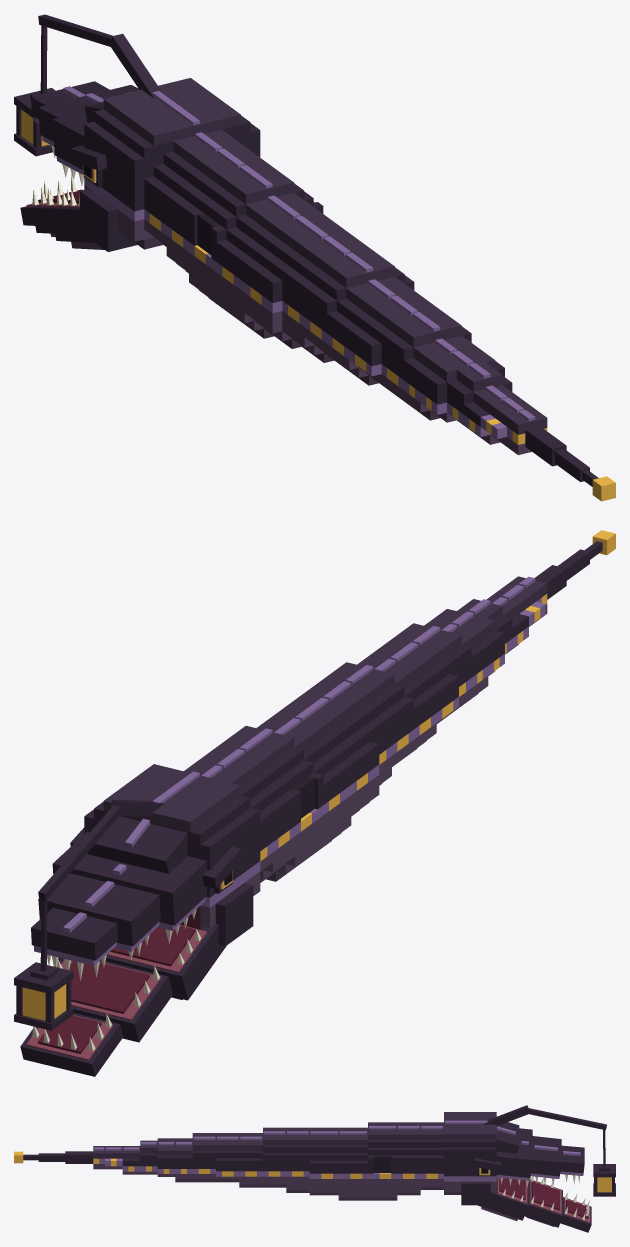
The model's file is LanternLeviathan.obj.
3 views of the same model, one above another, from view 1: azimuth 30°, elevation 25°; view 2: azimuth 150°, elevation 25°; view 3: azimuth 270°, elevation 25° (orthographic). The views are drawn at different scales.
Parts seen in each view (by area): view 1: Head, S3, S5, S4, S7, S2, S6, S1, S10, S8, S9, Jaw (+11 smaller); view 2: Head, Jaw, S3, S5, S4, S2, Lure, S7, S6, S9, S10, S8 (+7 smaller); view 3: Head, Jaw, S3, S4, S5, S2, S1, S6, S7, S8, S9, S10 (+12 smaller).
Boxes of the visible parts, box(x1,y1,x2,y2) form: Head: box(31, 78, 260, 251); S3: box(189, 162, 323, 317); S5: box(244, 213, 349, 348); S4: box(217, 193, 321, 338); S7: box(304, 250, 414, 368); S2: box(166, 146, 265, 273); S6: box(282, 234, 371, 362); S1: box(144, 129, 243, 246); S10: box(381, 309, 471, 407); S8: box(327, 276, 416, 385); S9: box(349, 293, 438, 391); Jaw: box(20, 173, 104, 249); Head: box(31, 764, 260, 980); Jaw: box(20, 924, 226, 1076); S3: box(218, 726, 323, 881); S5: box(274, 695, 379, 816); S4: box(256, 715, 351, 860); S2: box(196, 746, 295, 882); Lure: box(14, 900, 73, 1030); S7: box(324, 662, 414, 766); S6: box(302, 678, 391, 785); S9: box(369, 639, 458, 723); S10: box(391, 623, 471, 721); S8: box(357, 656, 436, 764); Head: box(444, 1112, 584, 1205); Jaw: box(478, 1176, 591, 1232); S3: box(368, 1122, 397, 1200); S4: box(338, 1127, 367, 1200); S5: box(309, 1127, 338, 1195); S2: box(397, 1122, 420, 1195); S1: box(420, 1122, 443, 1189); S6: box(286, 1127, 309, 1192); S7: box(263, 1127, 286, 1187); S8: box(239, 1133, 262, 1187); S9: box(216, 1133, 239, 1182); S10: box(192, 1133, 215, 1182).
Size of the model in its own units: 6.75 by 9.97 by 46.37.
1 material, 1 textured.
